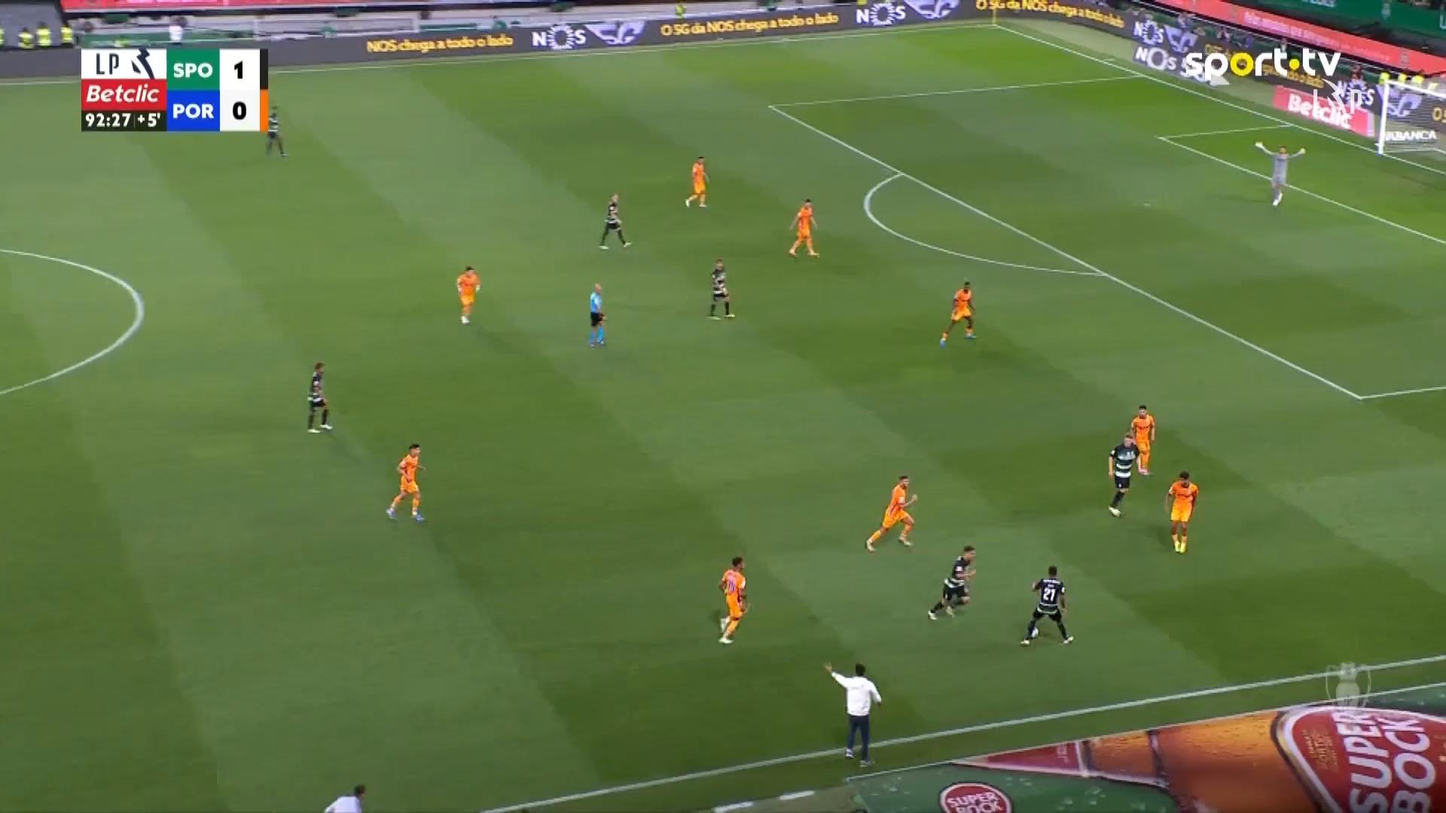goalkeeper: (1254, 139, 1306, 207)
player: (1019, 565, 1074, 646), (864, 474, 917, 552), (927, 544, 977, 620), (385, 443, 426, 522), (1164, 470, 1198, 553), (717, 556, 749, 644), (1106, 432, 1139, 516), (938, 279, 977, 348), (1128, 403, 1155, 475), (306, 361, 333, 432), (787, 198, 819, 257), (598, 193, 631, 250), (708, 258, 735, 319), (455, 265, 480, 324), (684, 155, 709, 208), (264, 108, 288, 157)
referee: (587, 282, 606, 347)
